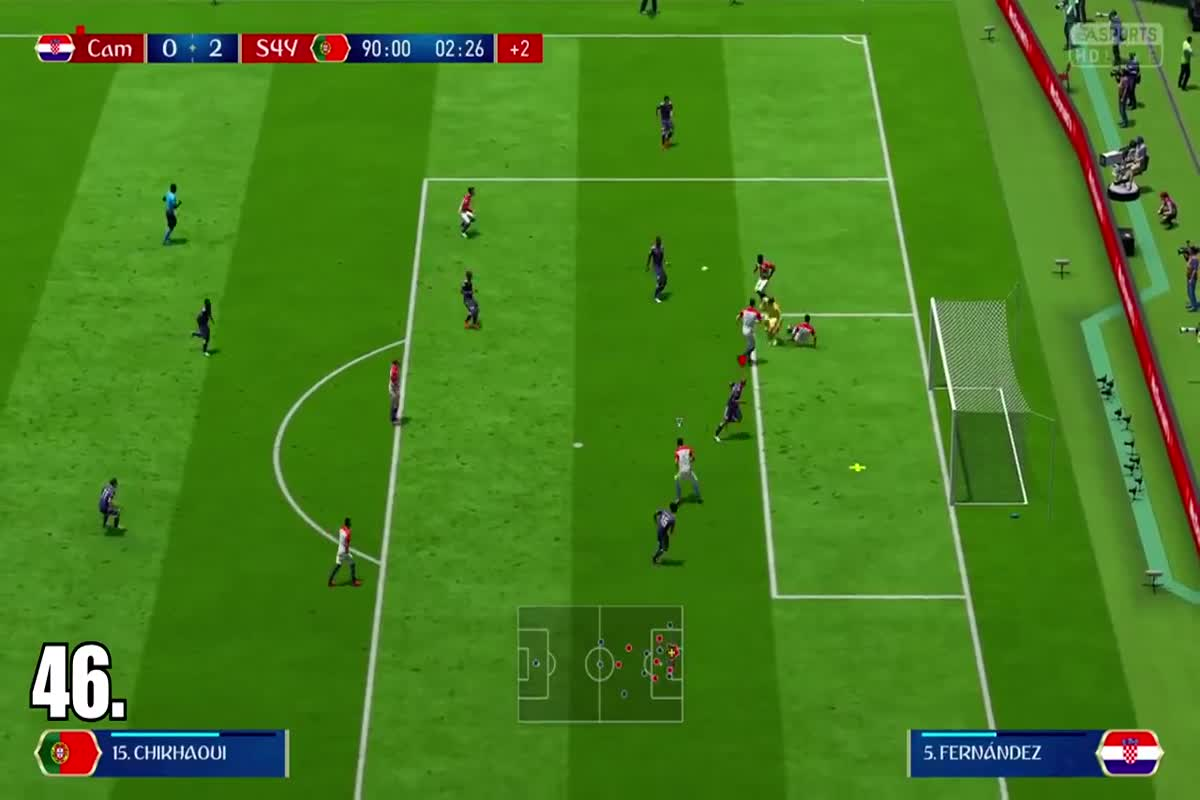ball: (692, 256, 723, 281)
